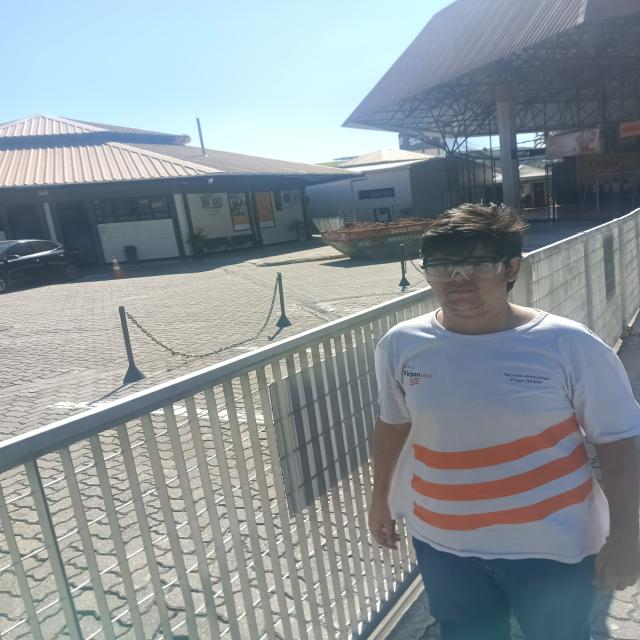oculos-epi: (419, 255, 507, 281)
